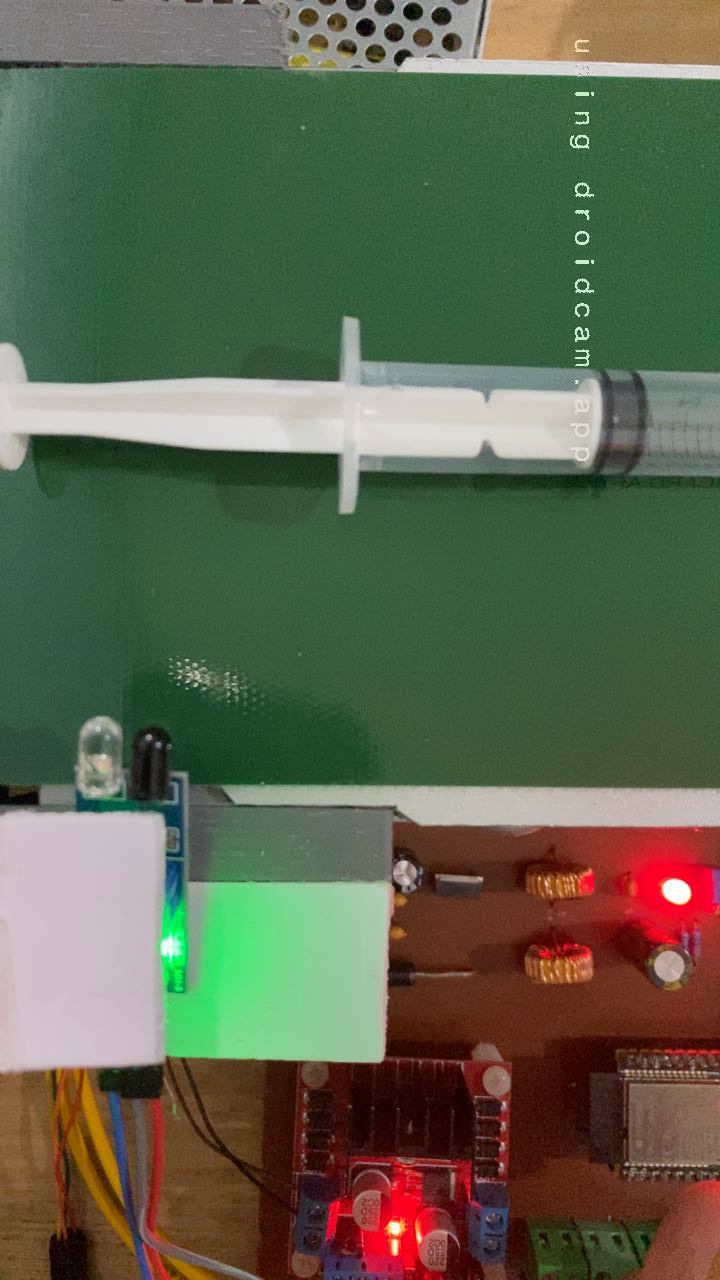syringe: (0, 310, 720, 522)
